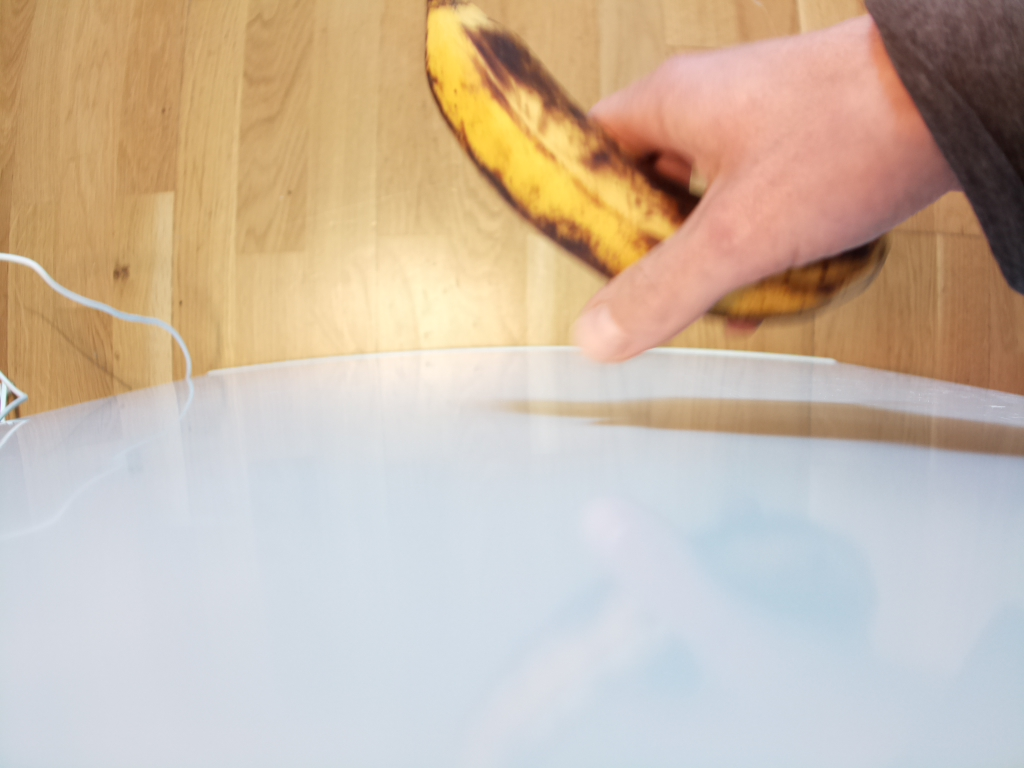banana-overripe: (426, 1, 891, 326)
